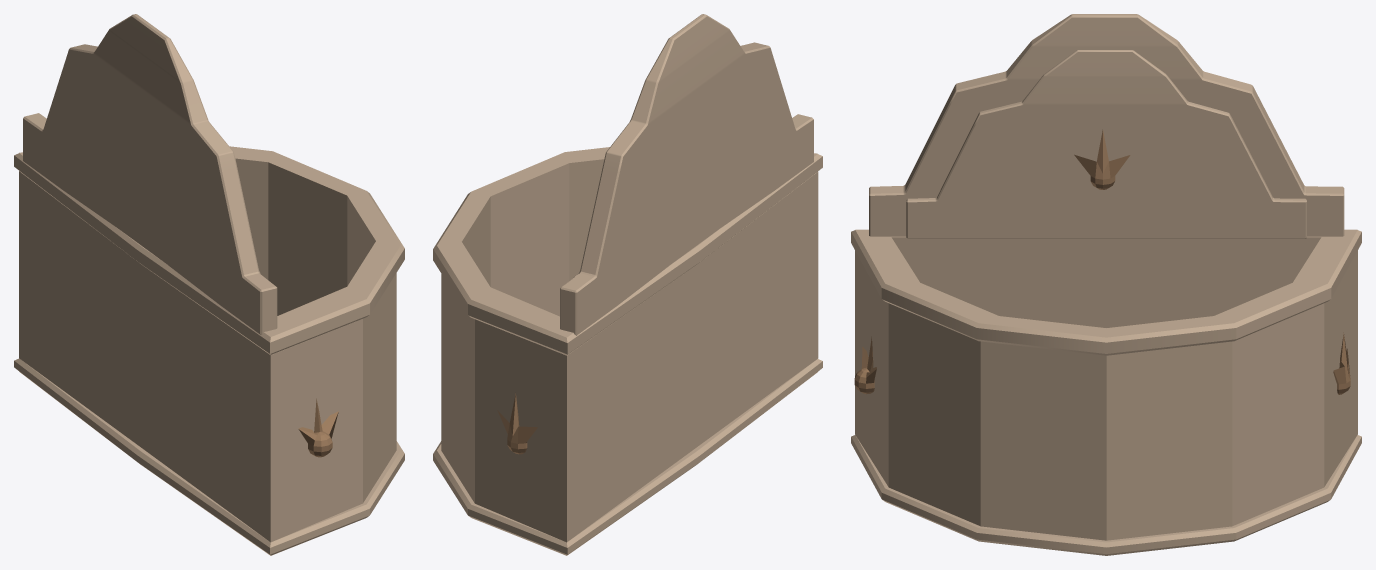
File: cistern.fbx
The picture shows the model from 3 angles, left to right: view 1: azimuth 30°, elevation 25°; view 2: azimuth 150°, elevation 25°; view 3: azimuth 270°, elevation 25°; orthographic projection.
Parts seen in each view (by area): view 1: cistern; view 2: cistern; view 3: cistern.
Part boxes in pixels (bbox=[...]): cistern: bbox=[14, 14, 404, 555]; cistern: bbox=[433, 14, 822, 555]; cistern: bbox=[851, 14, 1361, 555].
Size of the model in its own units: 0.6998 by 1.26 by 1.33.
